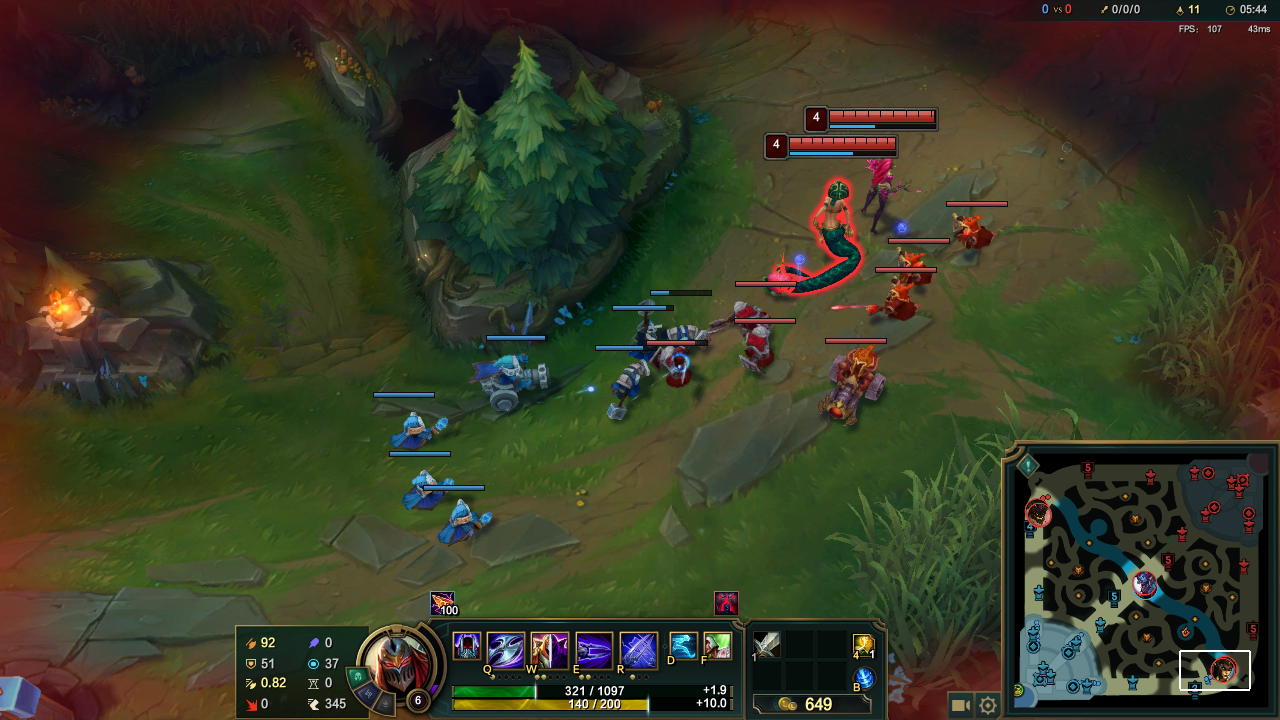DFYX: (829, 105, 938, 132), (787, 133, 895, 158)
